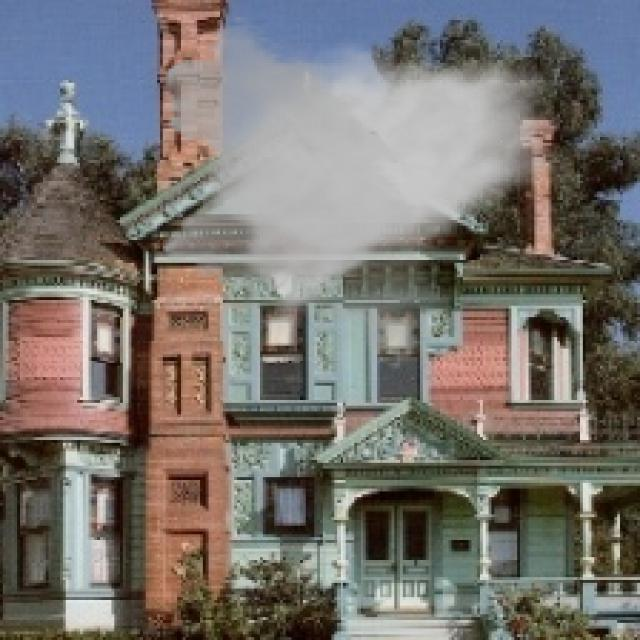smoke: (152, 14, 568, 372)
